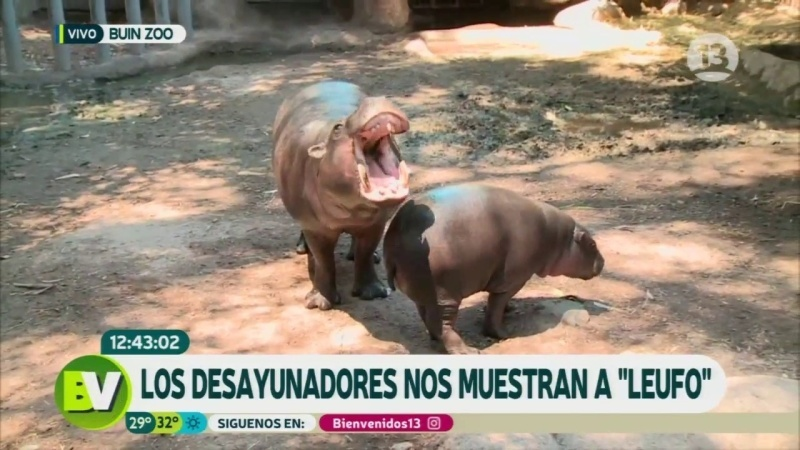hipopotamo: (381, 172, 636, 354), (253, 70, 413, 322)
